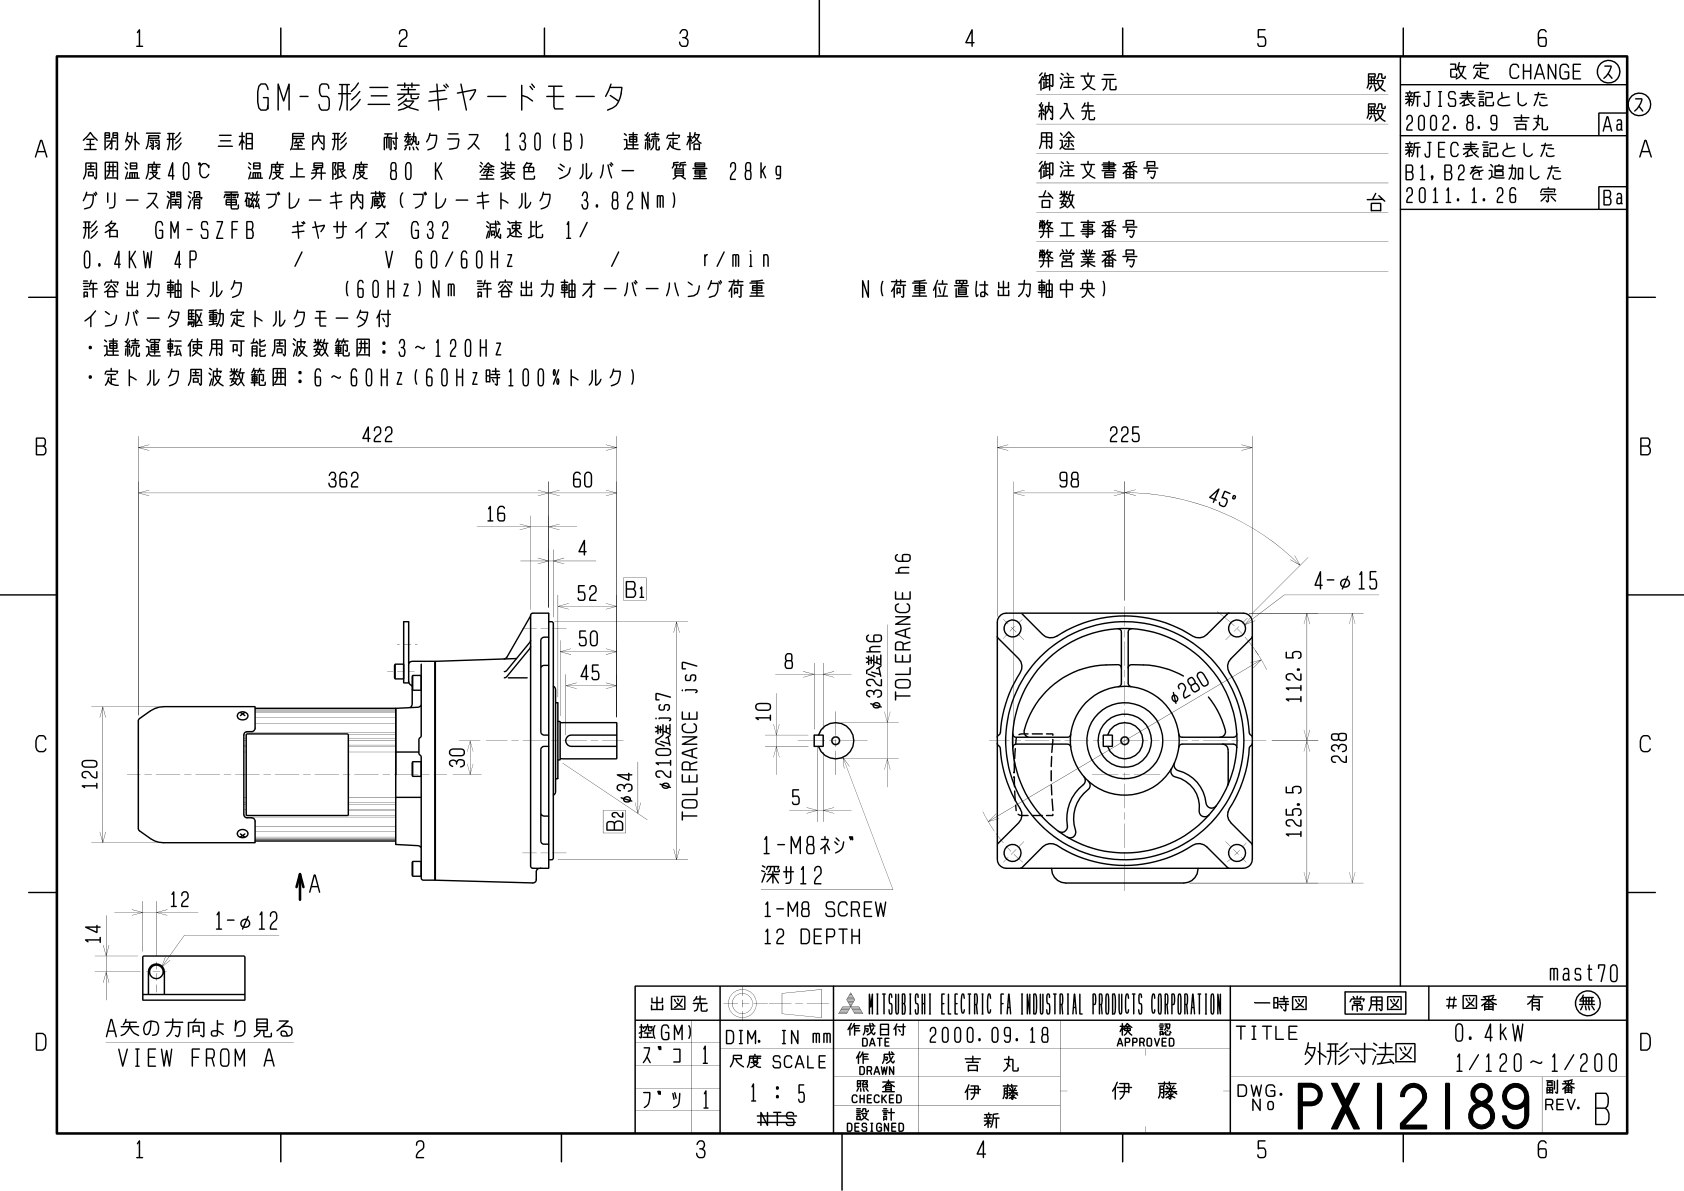GM_S_インバタ屋内＿三相_フランジ: (1, 10, 1674, 1179)
